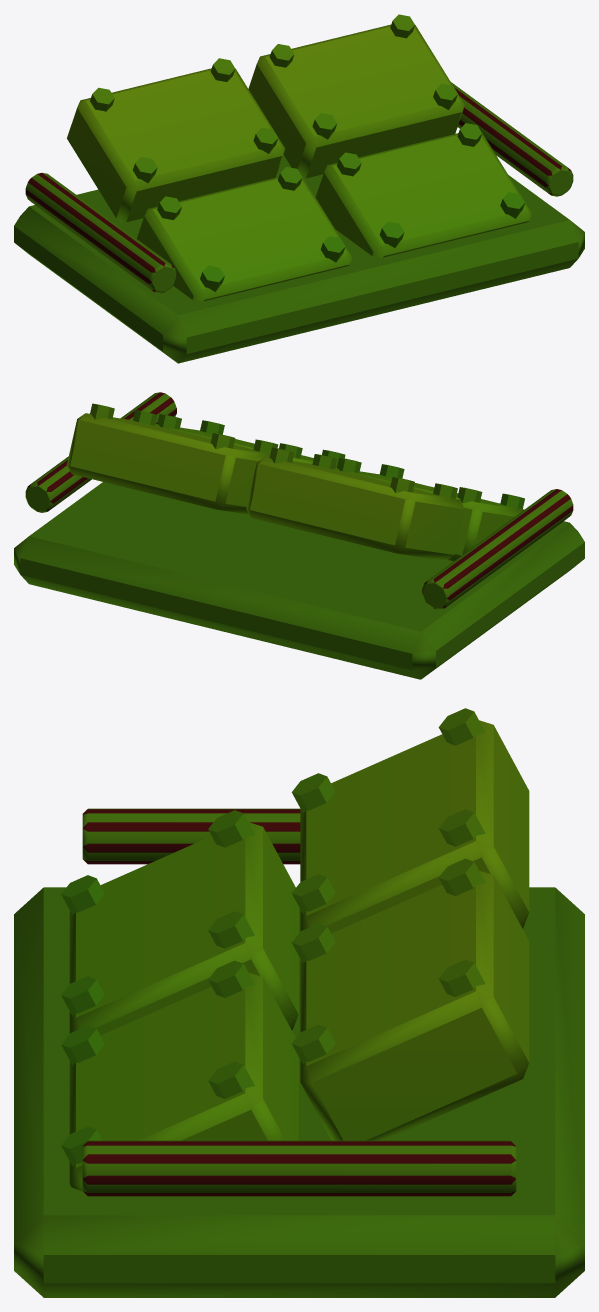
Rendered from RCLModule_scout_tank_gunmetal_chassis.fbx.
3 views of the same model, one above another, from view 1: azimuth 30°, elevation 25°; view 2: azimuth 150°, elevation 25°; view 3: azimuth 270°, elevation 25° (orthographic). The views are drawn at different scales.
Visible parts, largest first — view 1: RCLModule_scout_tank_gunmetal_chassis_Batch_RCLModuleMateria (×3); view 2: RCLModule_scout_tank_gunmetal_chassis_Batch_RCLModuleMateria (×3); view 3: RCLModule_scout_tank_gunmetal_chassis_Batch_RCLModuleMateria (×3).
Boxes of the visible parts, x1,y1,x2,y2 form: RCLModule_scout_tank_gunmetal_chassis_Batch_RCLModuleMateria (×3): (14, 14, 584, 363); RCLModule_scout_tank_gunmetal_chassis_Batch_RCLModuleMateria (×3): (14, 392, 584, 679); RCLModule_scout_tank_gunmetal_chassis_Batch_RCLModuleMateria (×3): (14, 708, 584, 1297).
Bounding box in the file's own units: 50.82 × 19.78 × 34.5.
